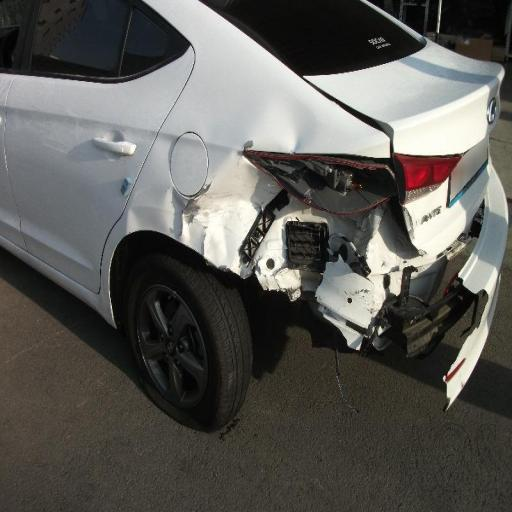broken: (176, 86, 494, 414)
